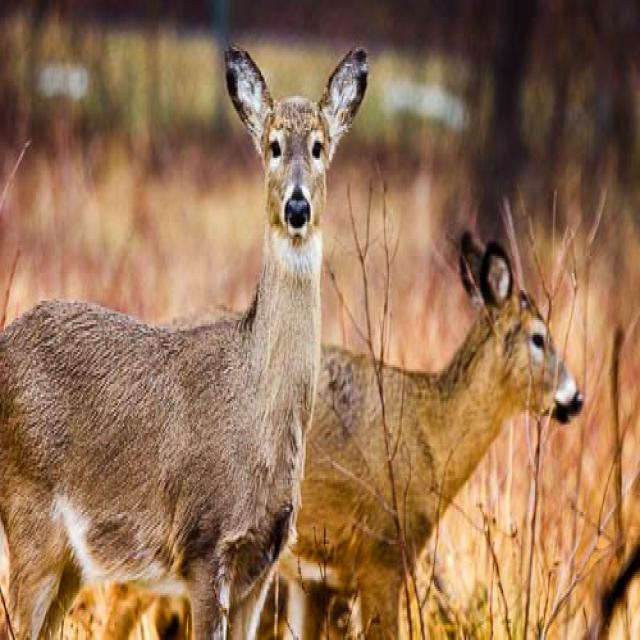deer: (1, 47, 367, 638), (285, 233, 582, 638)
